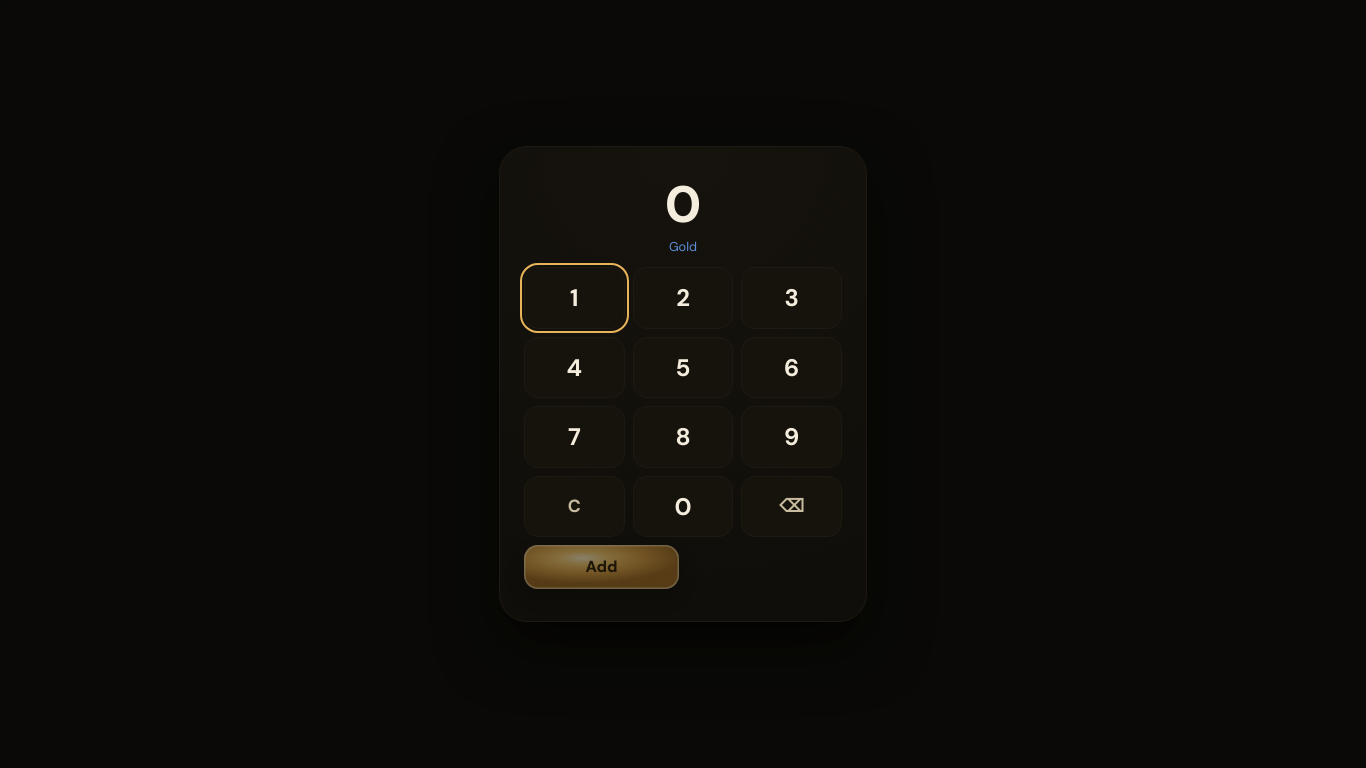
Scenario: AmountKeypad › keeps the sheet open and resets the amount when closeOnCommit is false
Click the button "5" at (683, 367), box x1=633 y1=337 x2=733 y2=398
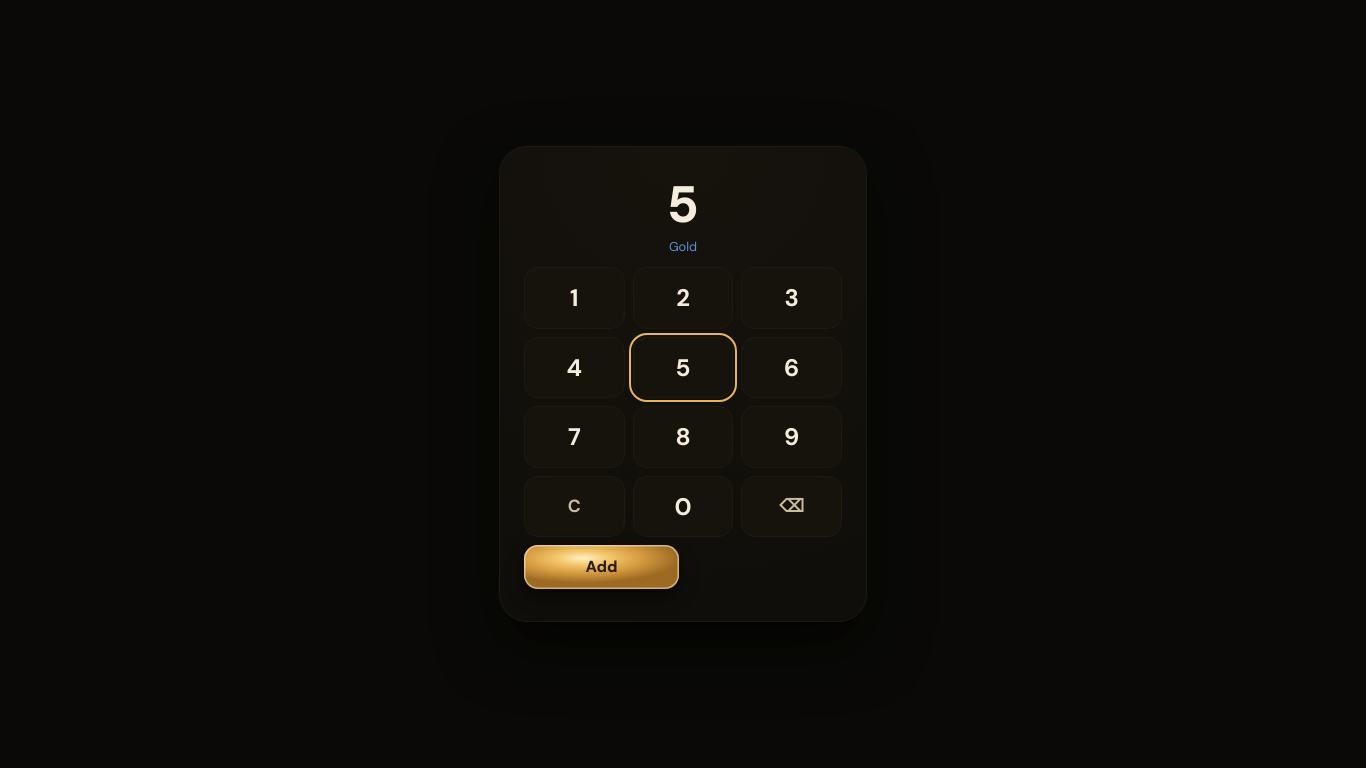
Click the button "Add" at (602, 567), box x1=524 y1=545 x2=679 y2=589
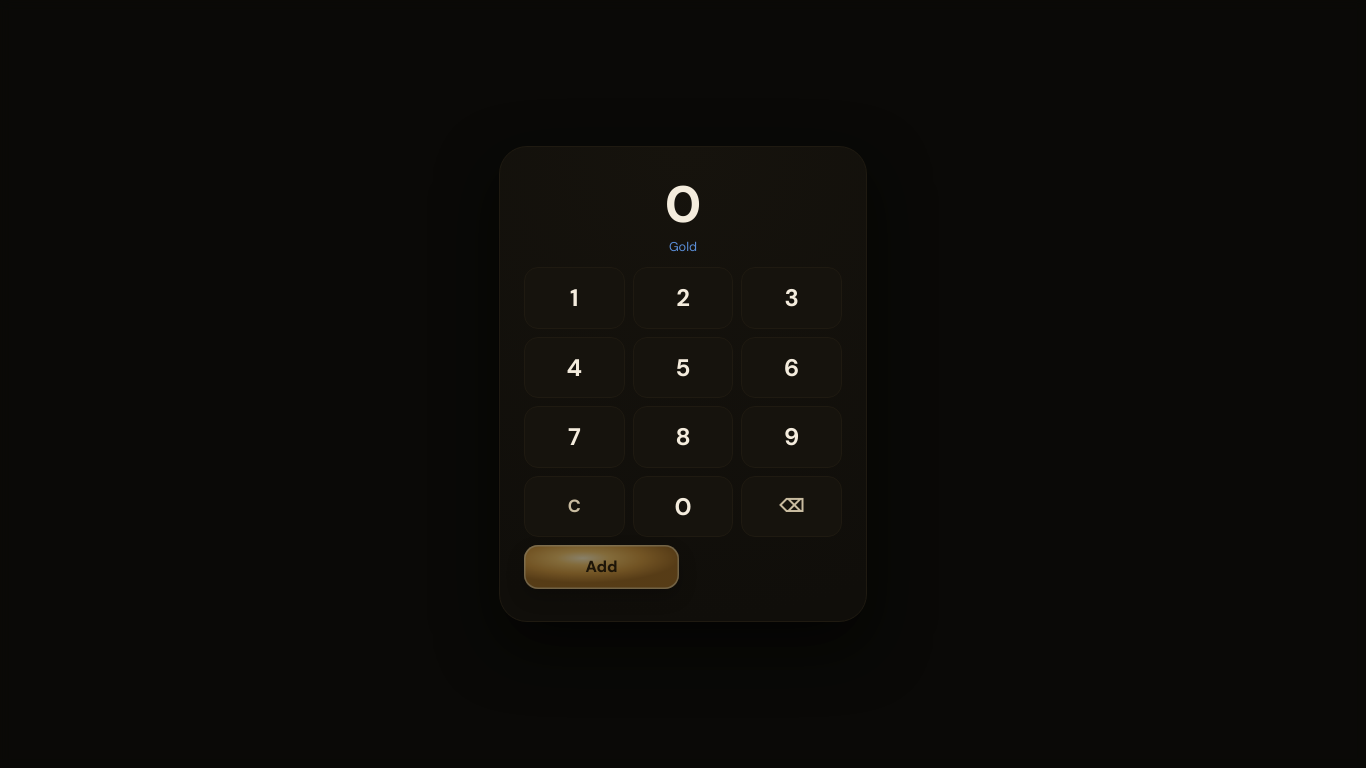
Check: the text with test id "keypad-amount" reads "0", box x1=665 y1=171 x2=701 y2=238
